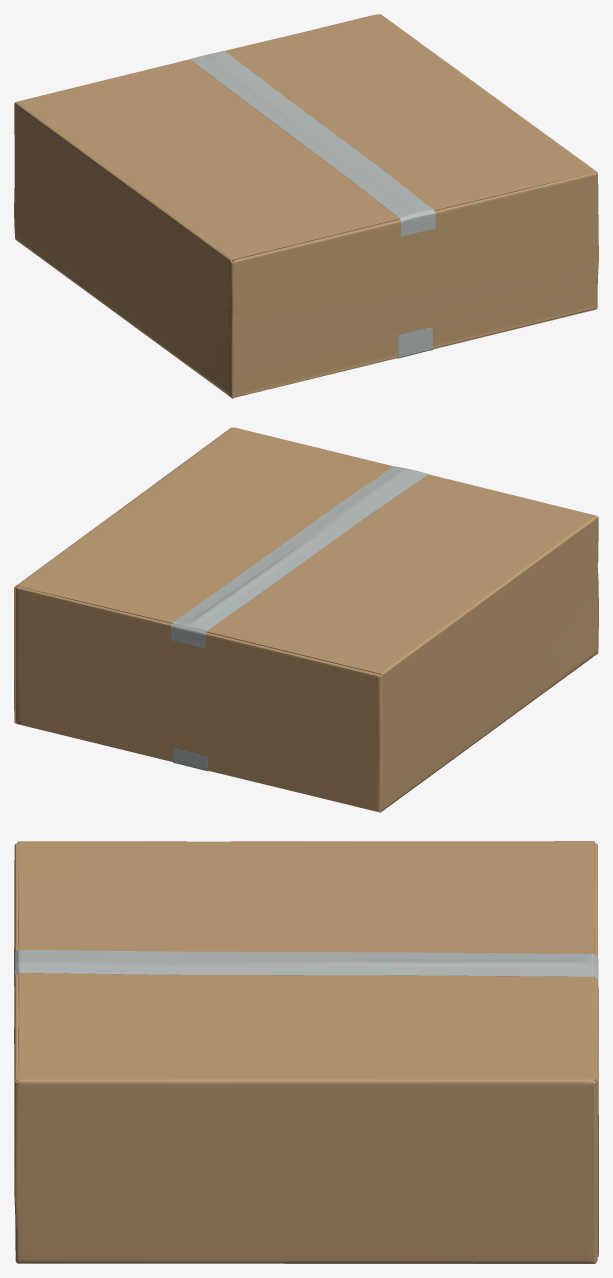
File: box_flat_a12.glb
The picture shows the model from 3 angles, top to bottom: view 1: azimuth 30°, elevation 25°; view 2: azimuth 150°, elevation 25°; view 3: azimuth 270°, elevation 25°; orthographic projection. The views are drawn at different scales.
Size of the model in its own units: 0.5601 by 0.2053 by 0.5772.
